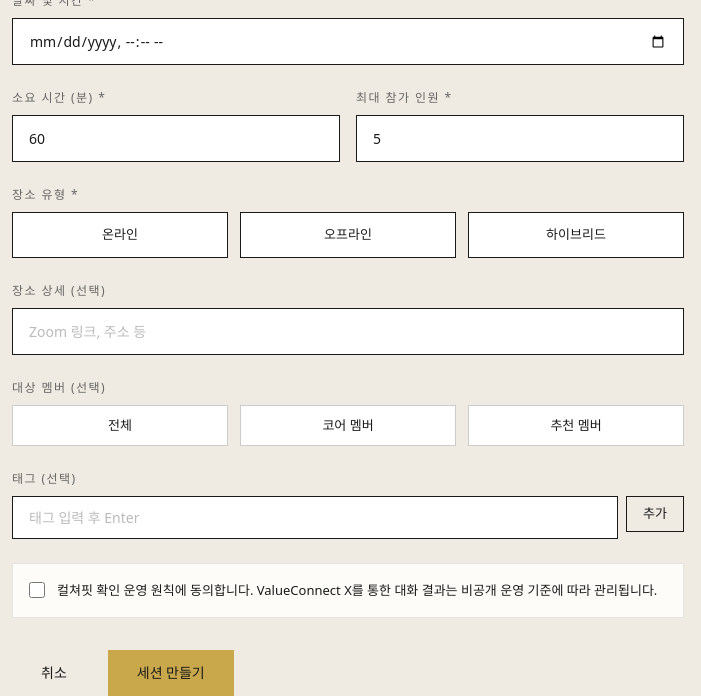
Test: SessionForm › shows validation error for empty title on submit
(page scrolled)
What coordinates should you click on to do the following:
click the button "세션 만들기"
I would click on:
 (171, 673)
Its box is [108,650,234,695].
(page scrolled)
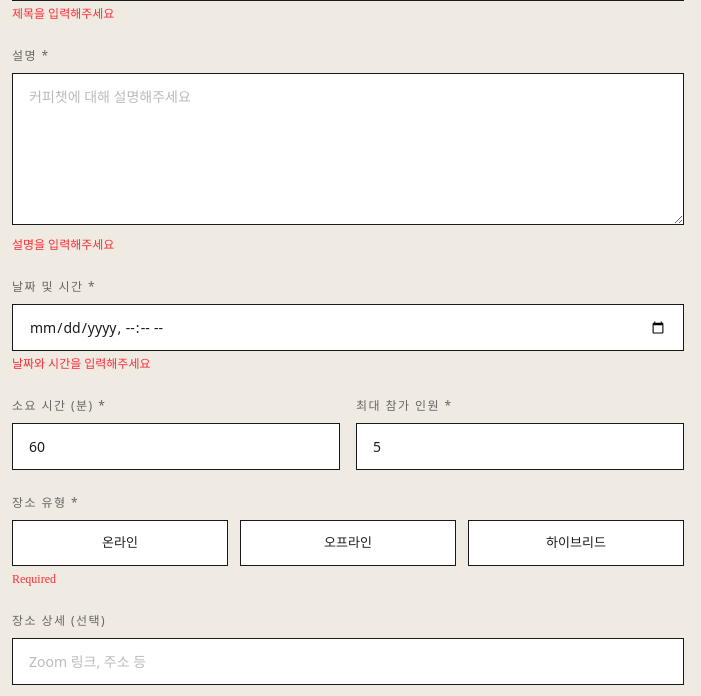
expect the text "제목을 입력해주세요" is shown: met, box [12,7,114,21]
